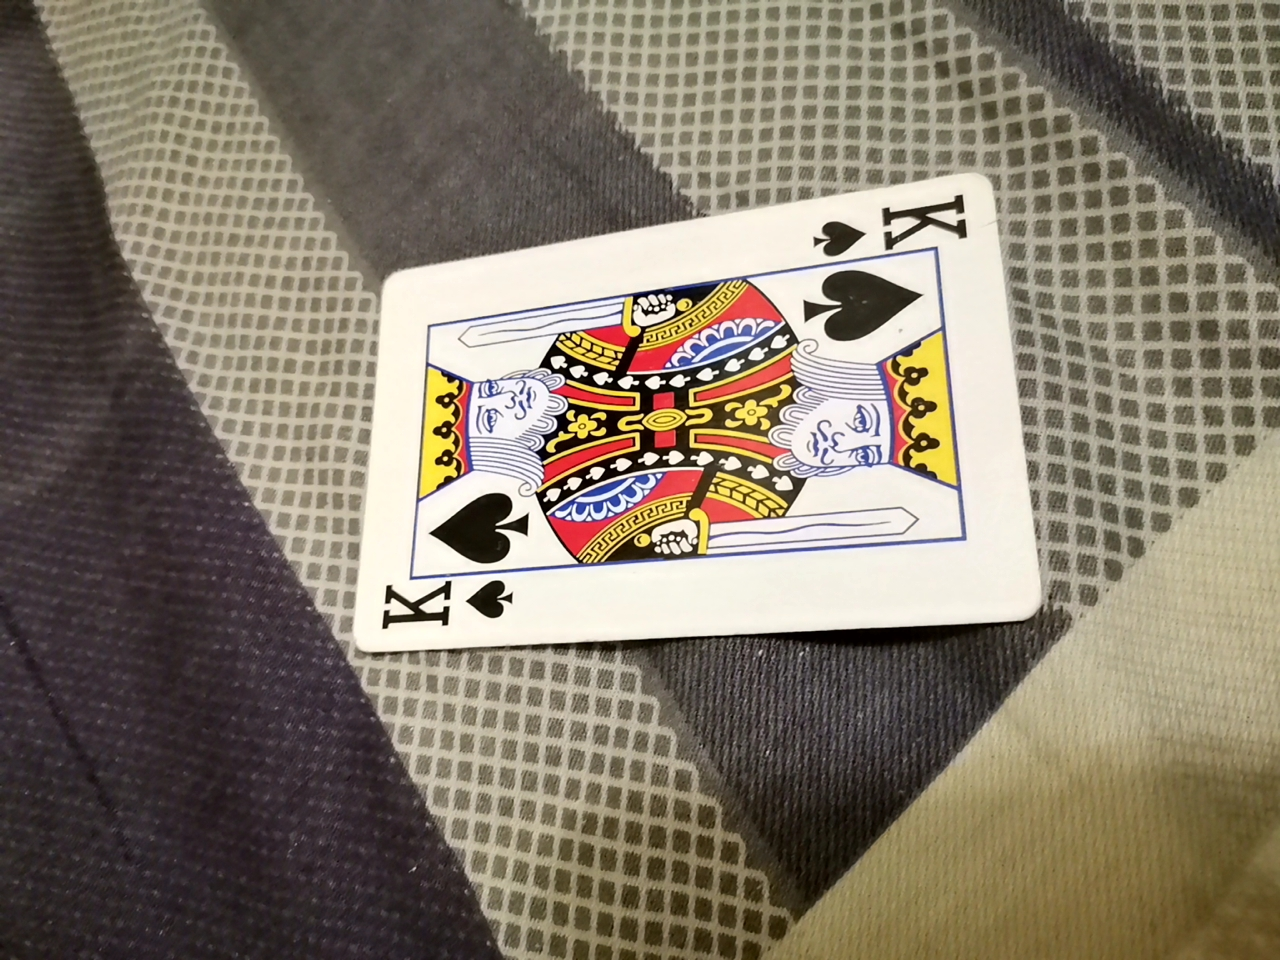ht k: (364, 154, 1039, 659)
